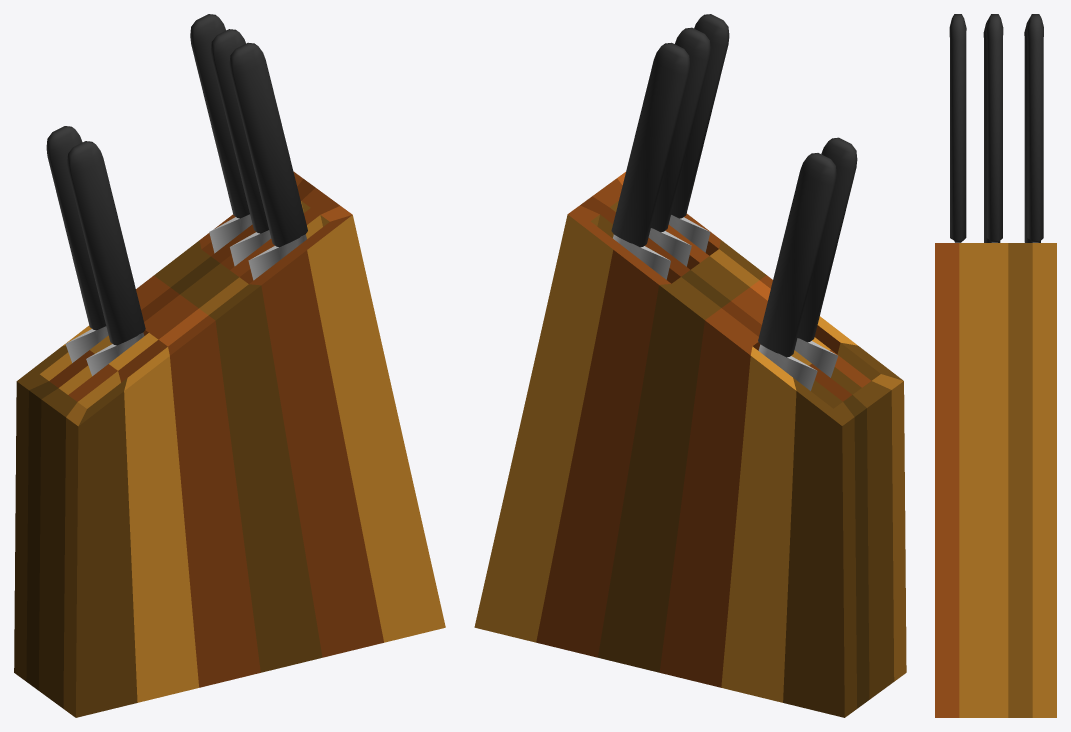
File: KnifeSet_01.fbx
3 renders of one model, left to right at view 1: azimuth 30°, elevation 25°; view 2: azimuth 150°, elevation 25°; view 3: azimuth 270°, elevation 25°, orthographic.
Parts seen in each view (by area): view 1: Cube.001, KnifeSet_Knife_01, KnifeSet_Knife_01.003, KnifeSet_Knife_01.002, KnifeSet_Knife_01.004, KnifeSet_Knife_01.001; view 2: Cube.001, KnifeSet_Knife_01.004, KnifeSet_Knife_01.002, KnifeSet_Knife_01.003, KnifeSet_Knife_01.001, KnifeSet_Knife_01; view 3: Cube.001, KnifeSet_Knife_01, KnifeSet_Knife_01.001, KnifeSet_Knife_01.002, KnifeSet_Knife_01.004, KnifeSet_Knife_01.003.
Part boxes in pixels (left/top/right/bottom): Cube.001: left=14, top=171, right=445, bottom=717; KnifeSet_Knife_01: left=229, top=42, right=307, bottom=280; KnifeSet_Knife_01.003: left=67, top=141, right=145, bottom=376; KnifeSet_Knife_01.002: left=190, top=14, right=252, bottom=253; KnifeSet_Knife_01.004: left=46, top=126, right=108, bottom=362; KnifeSet_Knife_01.001: left=211, top=29, right=271, bottom=266; Cube.001: left=474, top=172, right=906, bottom=717; KnifeSet_Knife_01.004: left=758, top=153, right=836, bottom=390; KnifeSet_Knife_01.002: left=611, top=42, right=689, bottom=279; KnifeSet_Knife_01.003: left=794, top=137, right=857, bottom=377; KnifeSet_Knife_01.001: left=648, top=27, right=710, bottom=266; KnifeSet_Knife_01: left=668, top=14, right=729, bottom=252; Cube.001: left=935, top=243, right=1056, bottom=717; KnifeSet_Knife_01: left=949, top=14, right=966, bottom=242; KnifeSet_Knife_01.001: left=986, top=14, right=1003, bottom=242; KnifeSet_Knife_01.002: left=1027, top=14, right=1043, bottom=242; KnifeSet_Knife_01.004: left=1024, top=19, right=1040, bottom=242; KnifeSet_Knife_01.003: left=983, top=19, right=1000, bottom=242.
Bounding box in the file's own units: 19.1 × 30.58 × 5.52.
